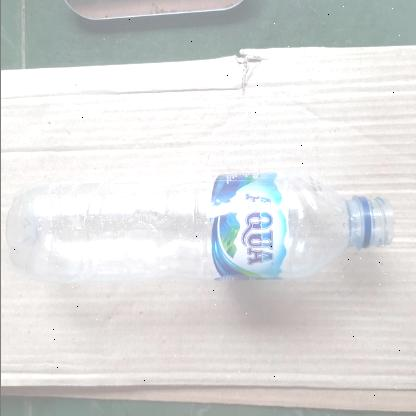Plastic Bottle: (8, 169, 394, 287)
